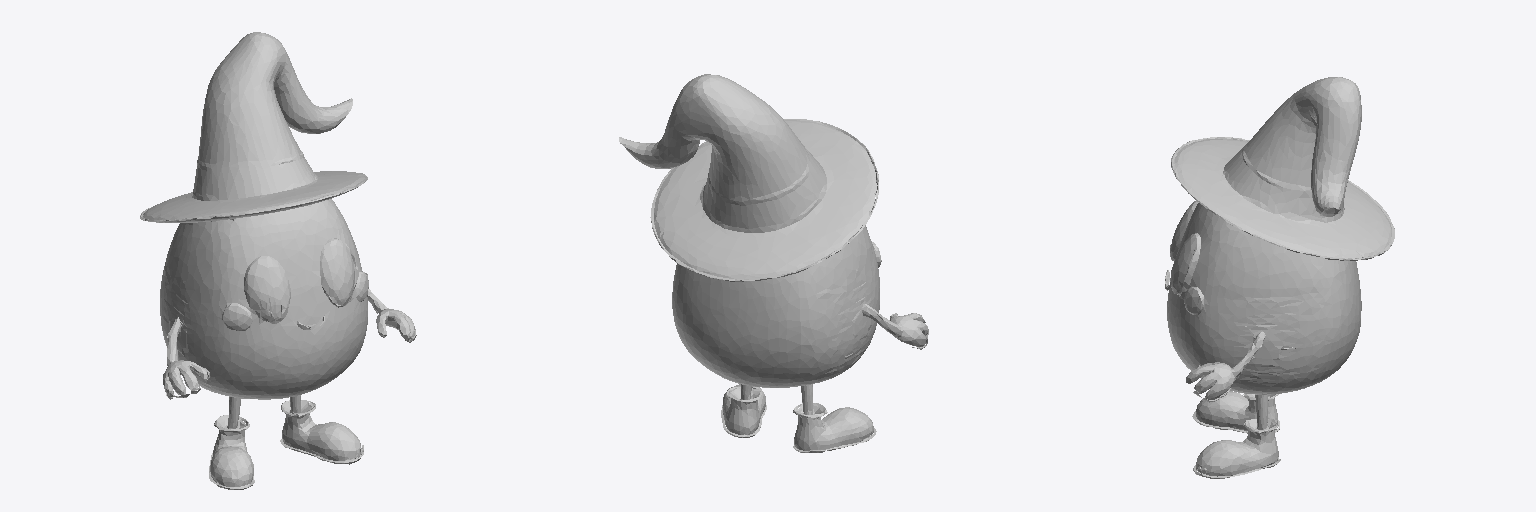
The model's file is Witchy_Egg_0526231003_texture.obj.
3 renders of one model, left to right at view 1: azimuth 30°, elevation 25°; view 2: azimuth 150°, elevation 25°; view 3: azimuth 270°, elevation 25°, orthographic.
Parts seen in each view (by area): view 1: Witchy_Egg_[number redacted]_texture; view 2: Witchy_Egg_[number redacted]_texture; view 3: Witchy_Egg_[number redacted]_texture.
Part boxes in pixels (x1,y1,x2,y2): Witchy_Egg_[number redacted]_texture: (140, 32, 416, 489); Witchy_Egg_[number redacted]_texture: (619, 74, 928, 452); Witchy_Egg_[number redacted]_texture: (1165, 77, 1394, 478).
Size of the model in its own units: 1.34 by 1.99 by 1.08.